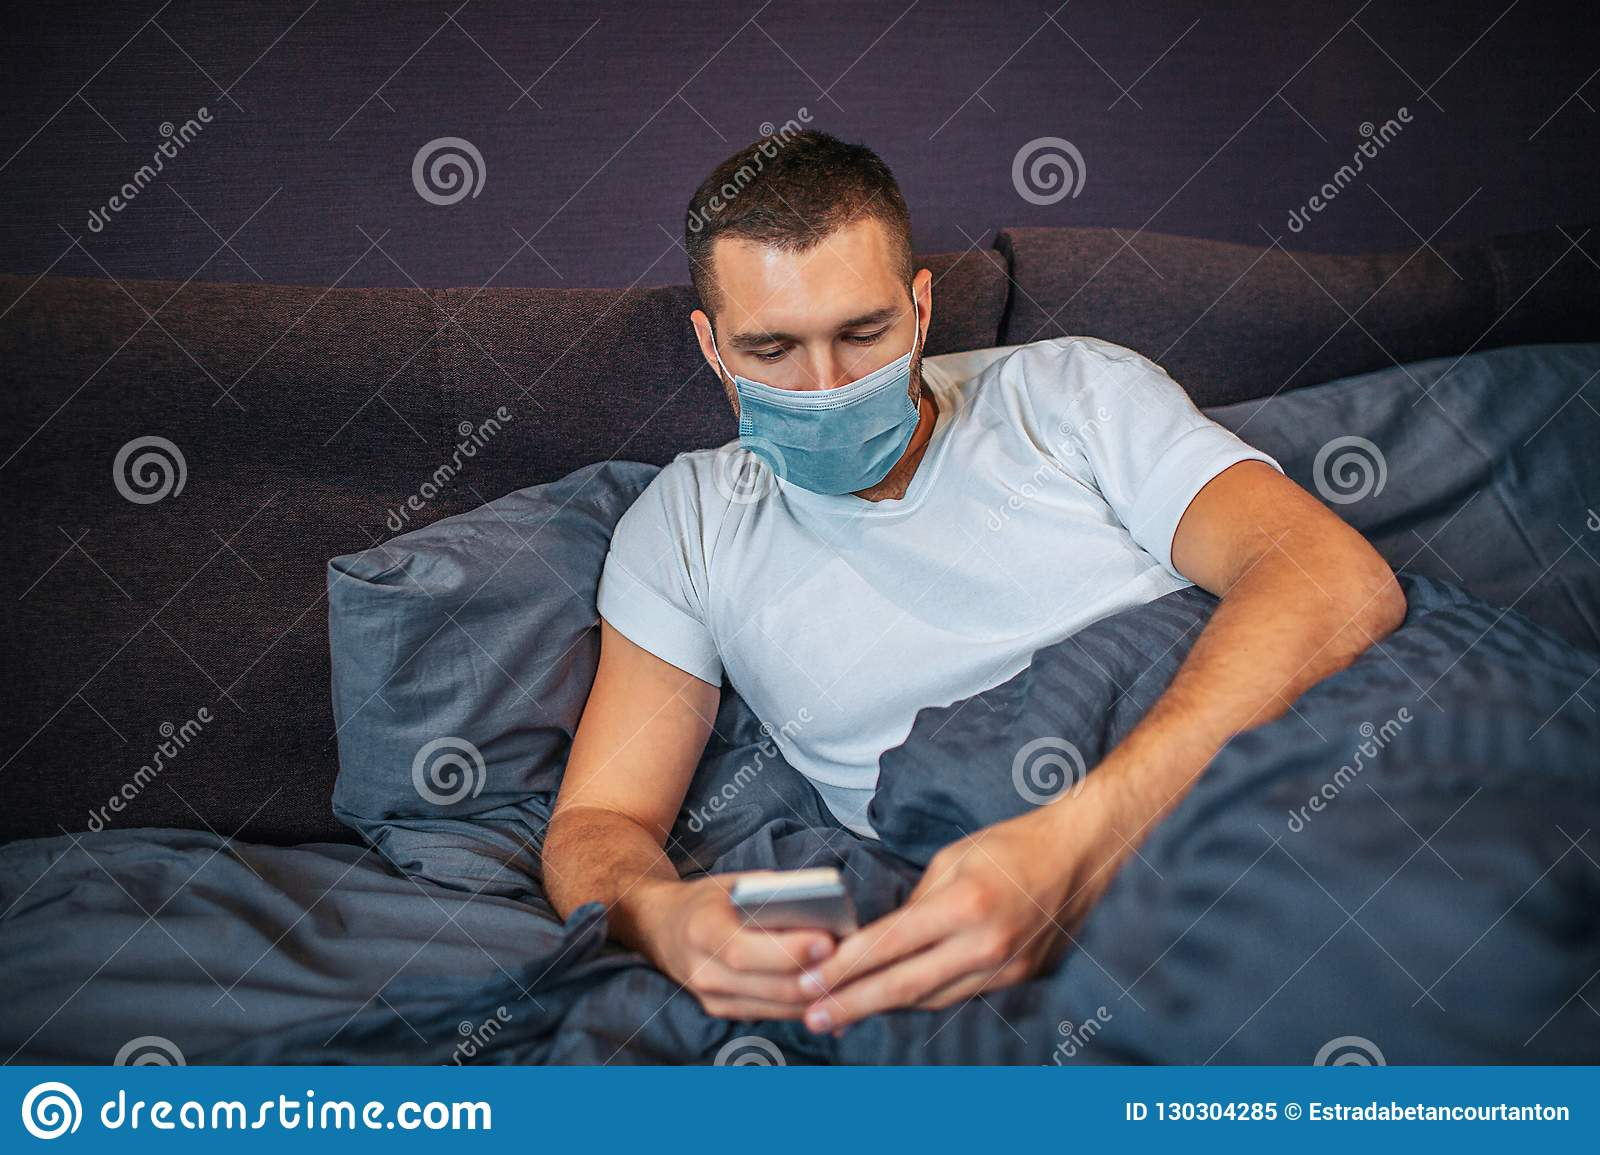mask: (725, 360, 939, 498)
